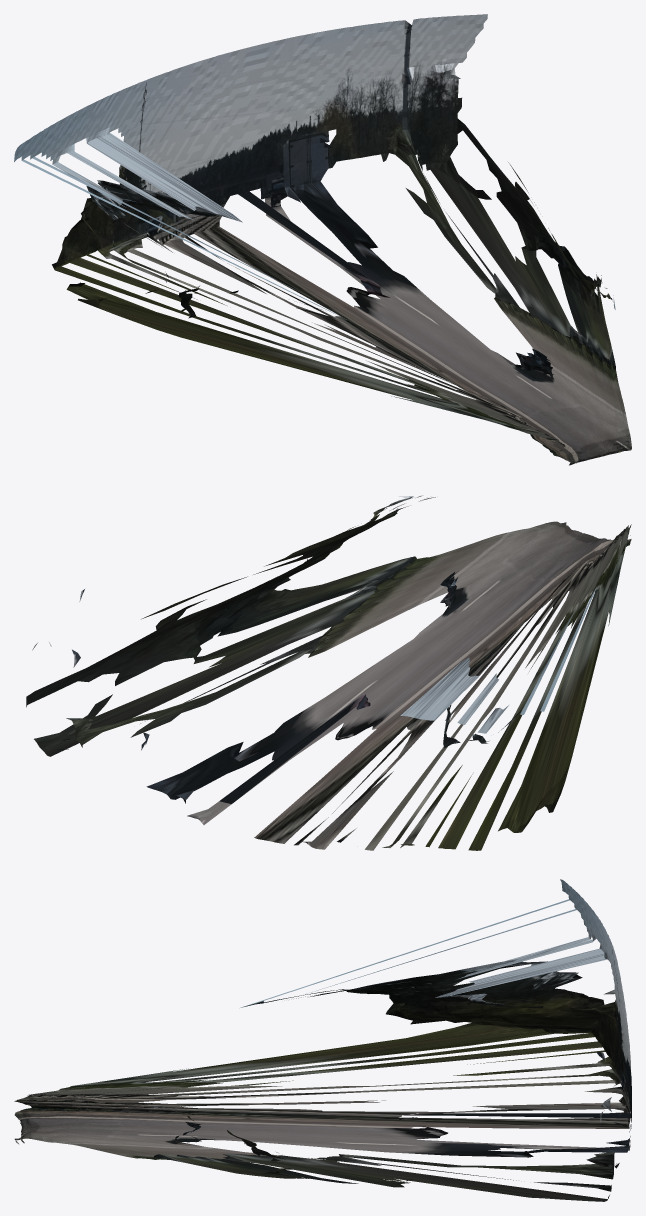
3 views of the same model, one above another, from view 1: azimuth 30°, elevation 25°; view 2: azimuth 150°, elevation 25°; view 3: azimuth 270°, elevation 25° (orthographic). The views are drawn at different scales.
Visible parts, largest first — view 1: defaultobject; view 2: defaultobject; view 3: defaultobject.
Boxes of the visible parts, box(x1,y1,x2,y2) form: defaultobject: box(14, 14, 631, 465); defaultobject: box(26, 495, 631, 850); defaultobject: box(14, 879, 631, 1201).
Size of the model in its own units: 35.88 by 12.5 by 44.73.
1 material, 1 textured.
